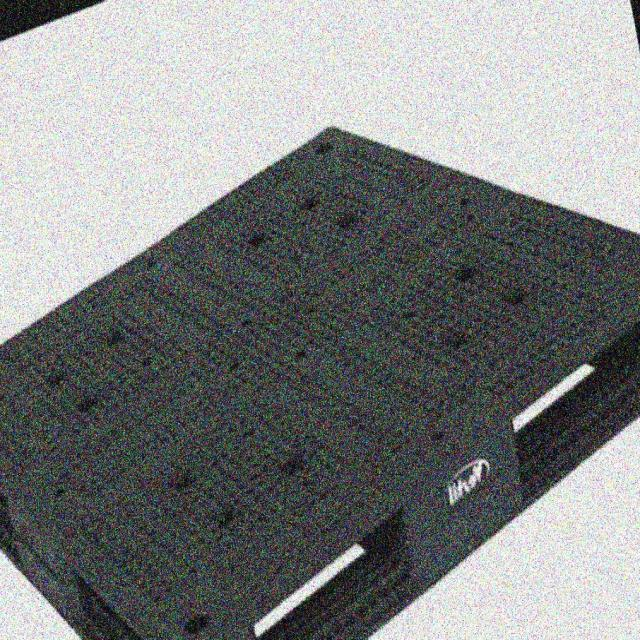non-igps: (1, 117, 638, 638)
